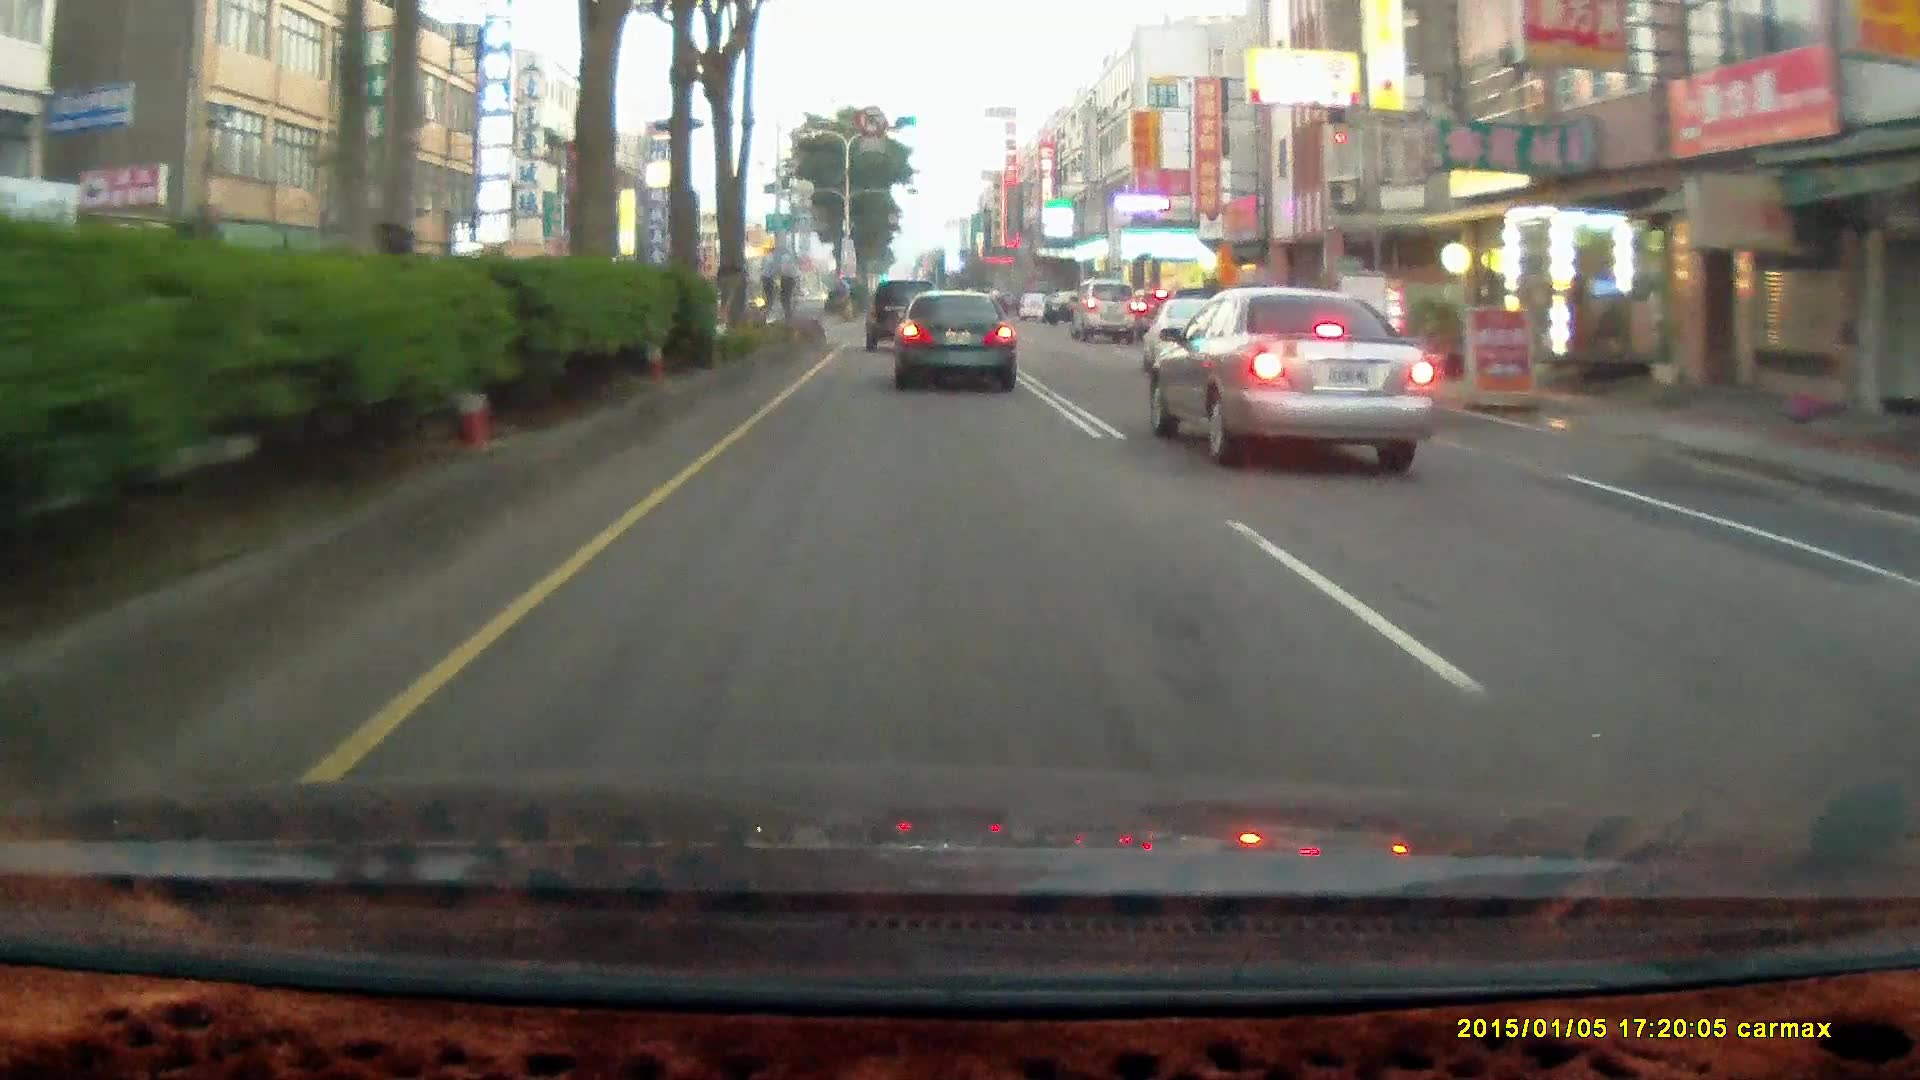vehicle: (1151, 286, 1437, 462), (891, 287, 1021, 397), (893, 287, 1014, 390), (864, 278, 944, 355), (862, 281, 940, 353), (1071, 280, 1142, 344), (1069, 276, 1139, 339), (1044, 287, 1093, 324), (1021, 290, 1046, 316)
